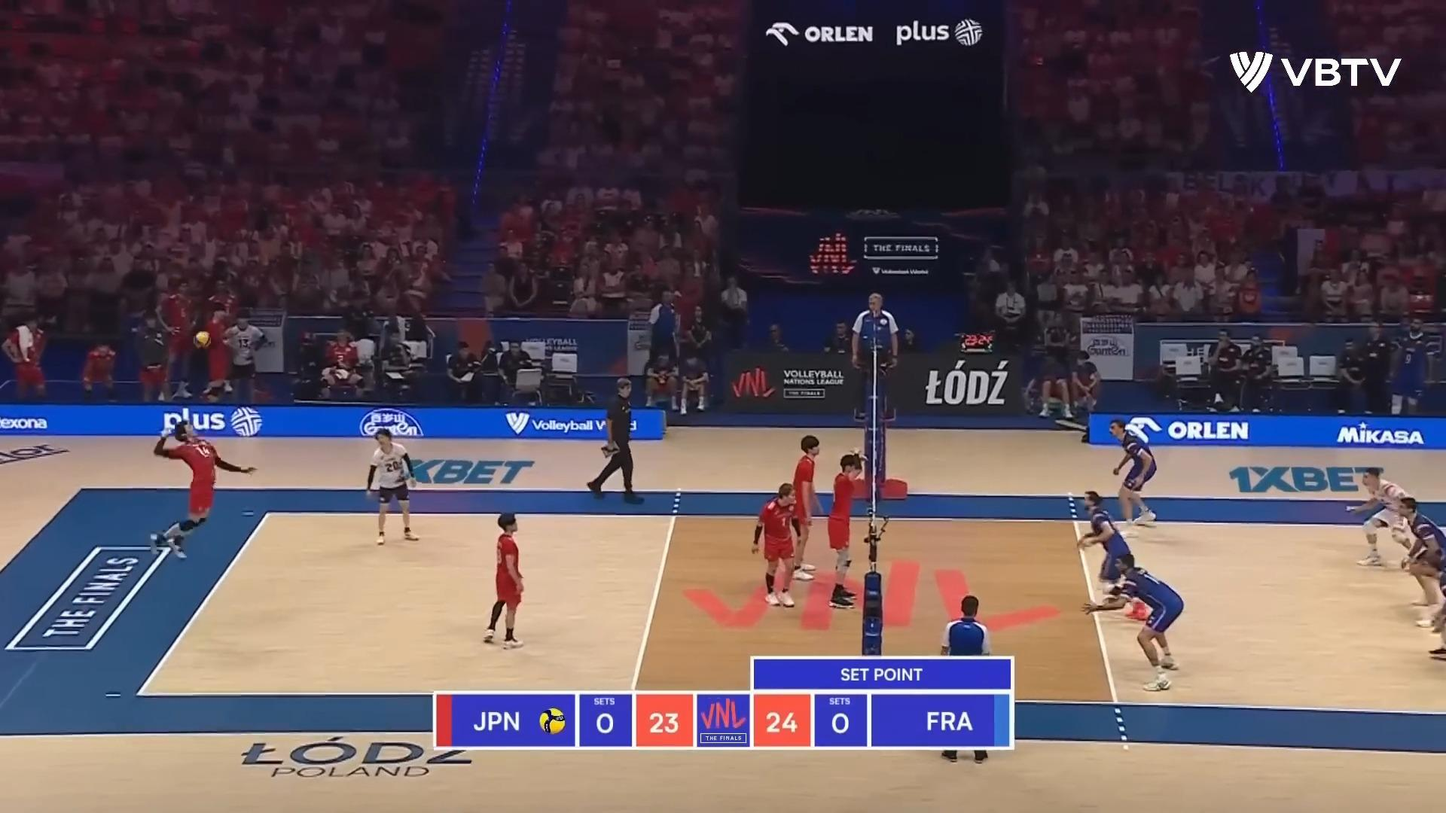ball: (192, 332, 212, 348)
